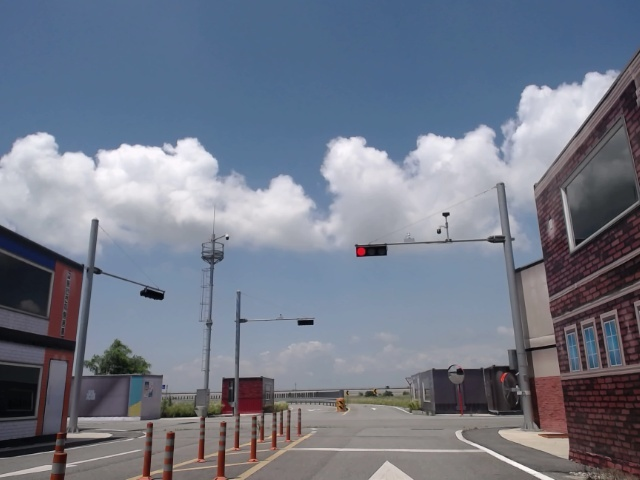red_3: (354, 246, 388, 257)
